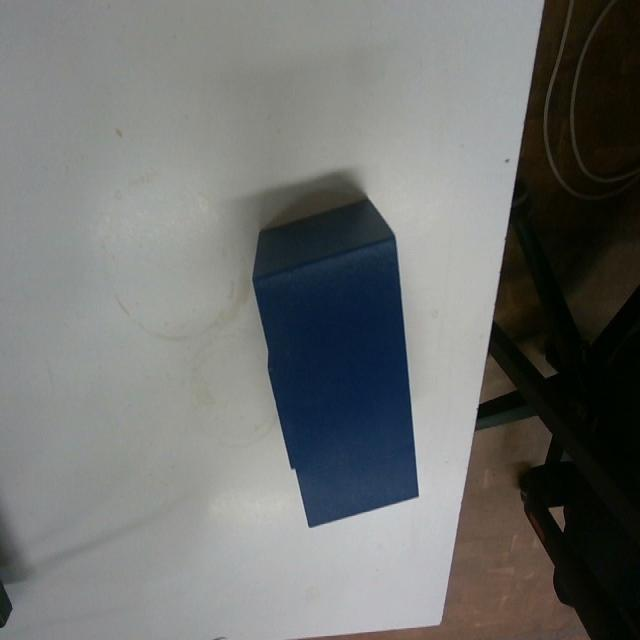Blue Cuboid: (249, 192, 421, 528)
